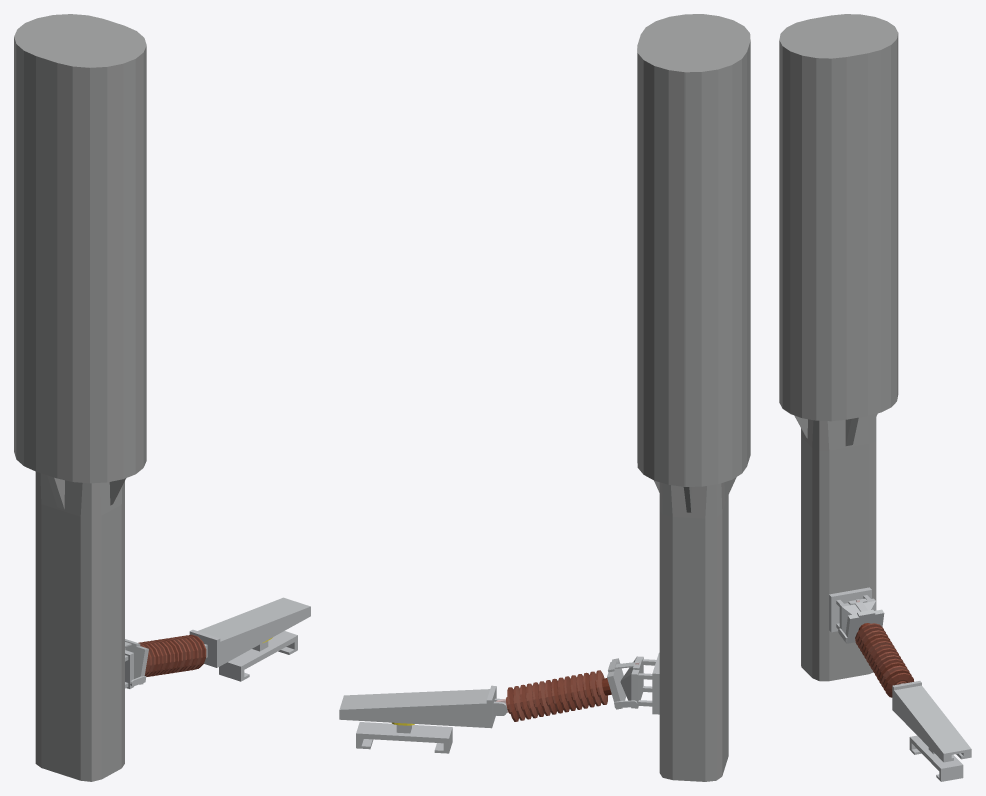
The model's file is catenary_rigid_end_hs_l.obj.
The picture shows the model from 3 angles, left to right: view 1: azimuth 30°, elevation 25°; view 2: azimuth 150°, elevation 25°; view 3: azimuth 270°, elevation 25°; orthographic projection. The views are drawn at different scales.
Visible parts, largest first — view 1: 1.002; view 2: 1.002; view 3: 1.002.
Part boxes in pixels (box(x1,y1,x2,y2)): 1.002: box(14, 14, 310, 781); 1.002: box(339, 14, 750, 781); 1.002: box(779, 14, 971, 781).
Bounding box in the file's own units: 0.8958 × 1.8 × 0.4984.
Materials: 1 (1 with a texture image).
